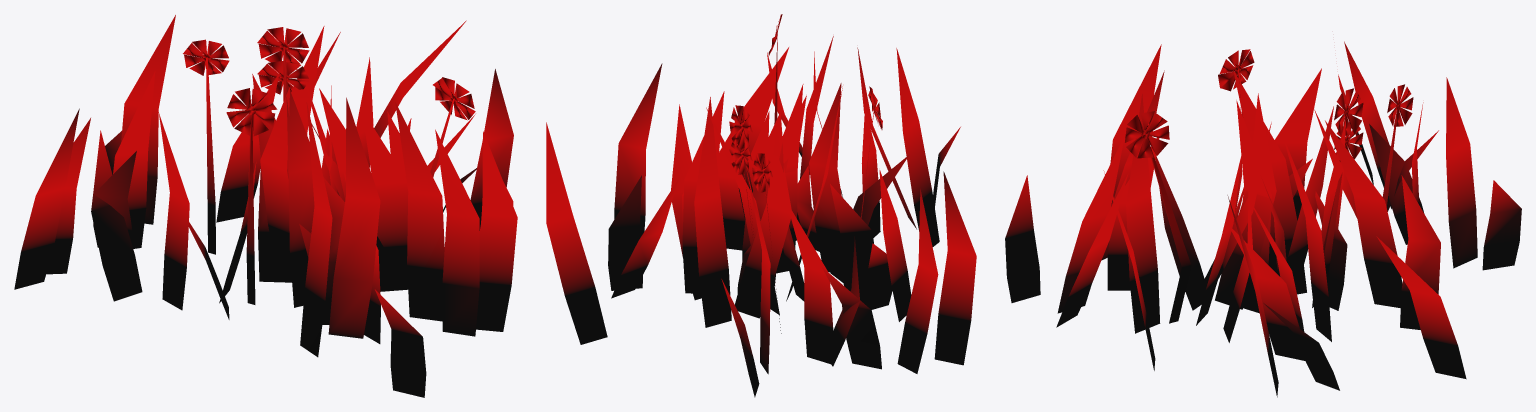
The model's file is Grasspoligonwithflowers.fbx.
3 renders of one model, left to right at view 1: azimuth 30°, elevation 25°; view 2: azimuth 150°, elevation 25°; view 3: azimuth 270°, elevation 25°, orthographic. The views are drawn at different scales.
Visible parts, largest first — view 1: Pasto, Flor.003, Flor.002, Flor, Flor.001, Flor.004; view 2: Pasto, Flor, Flor.002, Flor.004, Flor.003; view 3: Pasto, Flor.001, Flor.002, Flor, Flor.004, Flor.003.
Part boxes in pixels (x1=…): Pasto: x1=14, y1=15, x2=517, y2=397; Flor.003: x1=226, y1=88, x2=277, y2=304; Flor.002: x1=183, y1=39, x2=229, y2=254; Flor: x1=257, y1=27, x2=309, y2=101; Flor.001: x1=430, y1=77, x2=475, y2=177; Flor.004: x1=257, y1=61, x2=308, y2=101; Pasto: x1=546, y1=36, x2=976, y2=397; Flor: x1=729, y1=105, x2=754, y2=237; Flor.002: x1=752, y1=153, x2=781, y2=333; Flor.004: x1=729, y1=136, x2=753, y2=240; Flor.003: x1=861, y1=86, x2=882, y2=218; Pasto: x1=1005, y1=41, x2=1521, y2=397; Flor.001: x1=1125, y1=111, x2=1191, y2=323; Flor.002: x1=1382, y1=84, x2=1413, y2=206; Flor: x1=1323, y1=88, x2=1363, y2=252; Flor.004: x1=1324, y1=122, x2=1363, y2=282; Flor.003: x1=1218, y1=49, x2=1254, y2=117.
Bounding box in the file's own units: 94.33 × 51.07 × 96.04.
